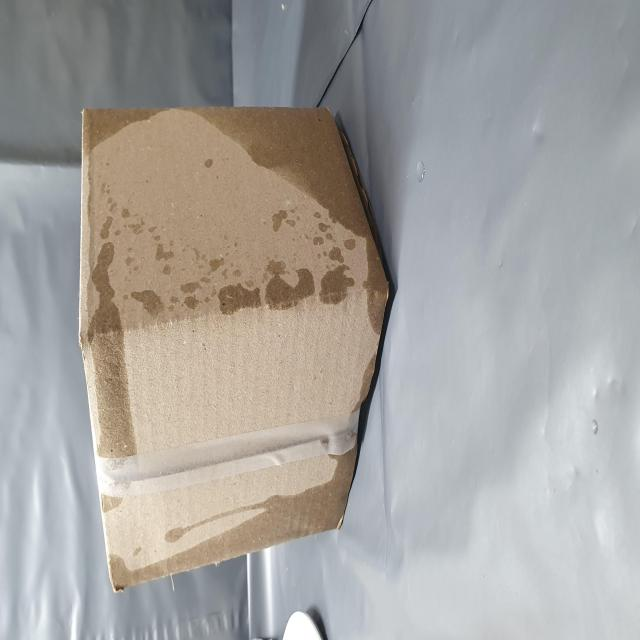wet: (182, 364, 301, 640), (28, 186, 94, 632), (104, 144, 223, 291), (275, 152, 311, 316)
